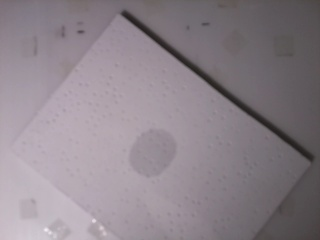Water_detected: (127, 126, 175, 173)
